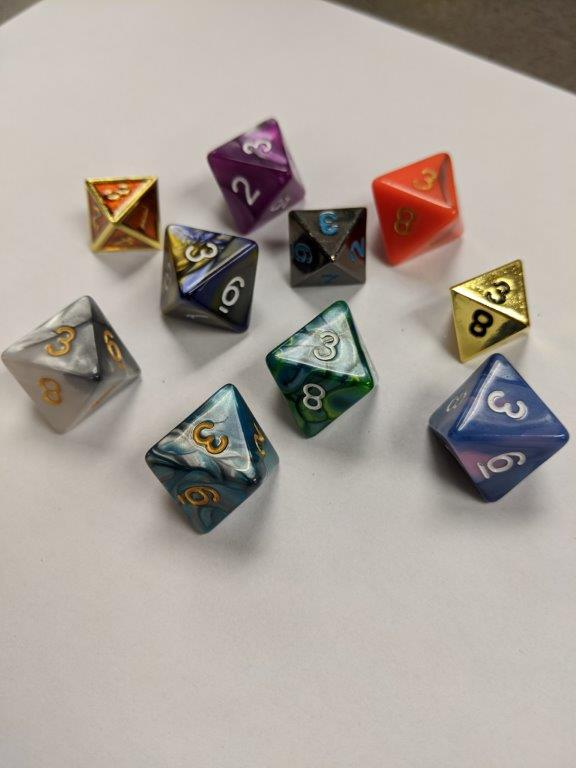d8-3: (427, 356, 567, 505), (142, 381, 280, 532), (1, 296, 142, 431), (265, 299, 376, 438), (208, 117, 303, 235), (371, 149, 465, 267), (161, 222, 257, 337), (451, 257, 531, 363), (288, 204, 367, 280), (87, 176, 160, 250)
